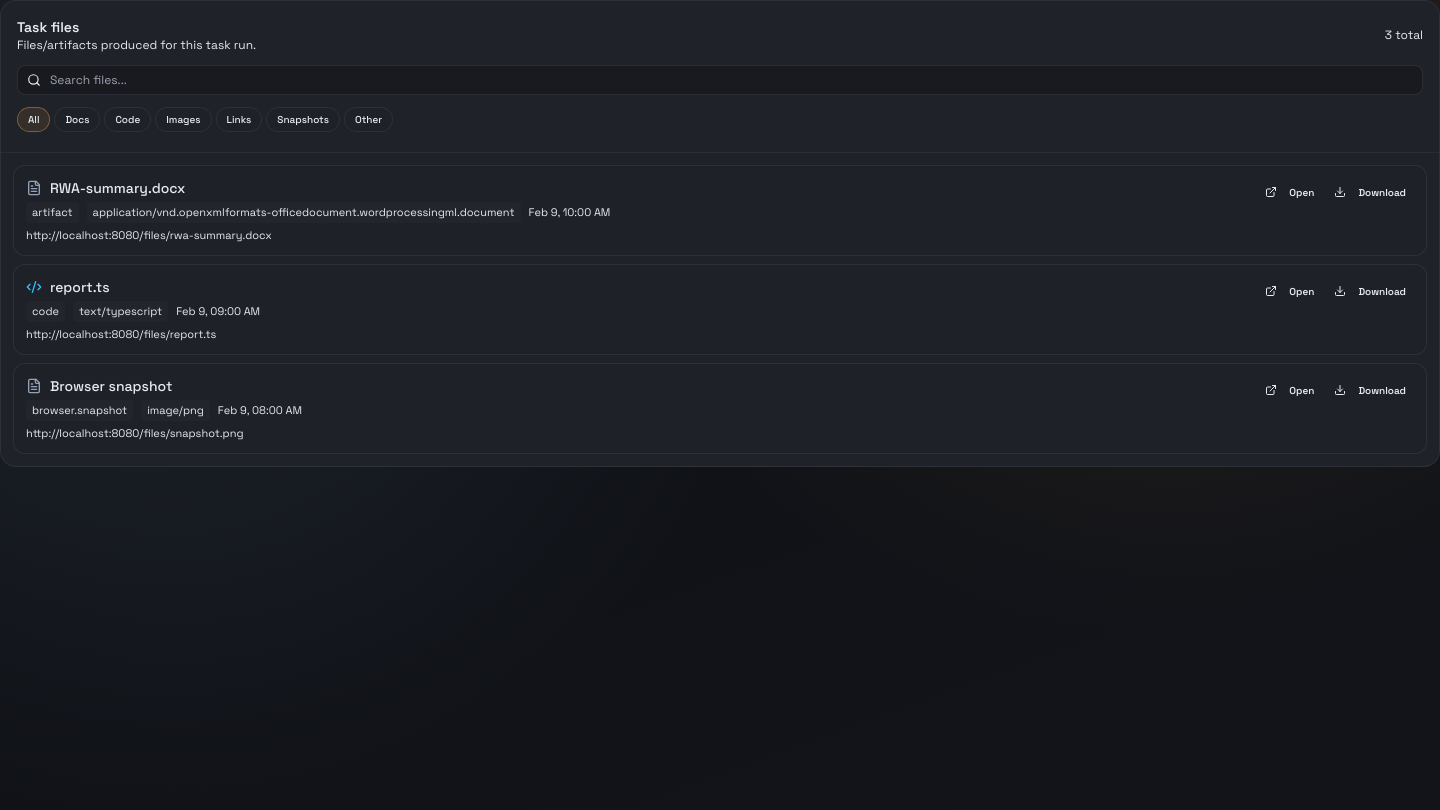
Test: TaskFilesPanel › shows task files and supports category filtering
Expected: the heading "Task files" is shown, [17,18,79,36]
Expected: the text "RWA-summary.docx" is shown, [50,178,185,198]
Click the button "Docs": x=78, y=120 [54,107,100,132]
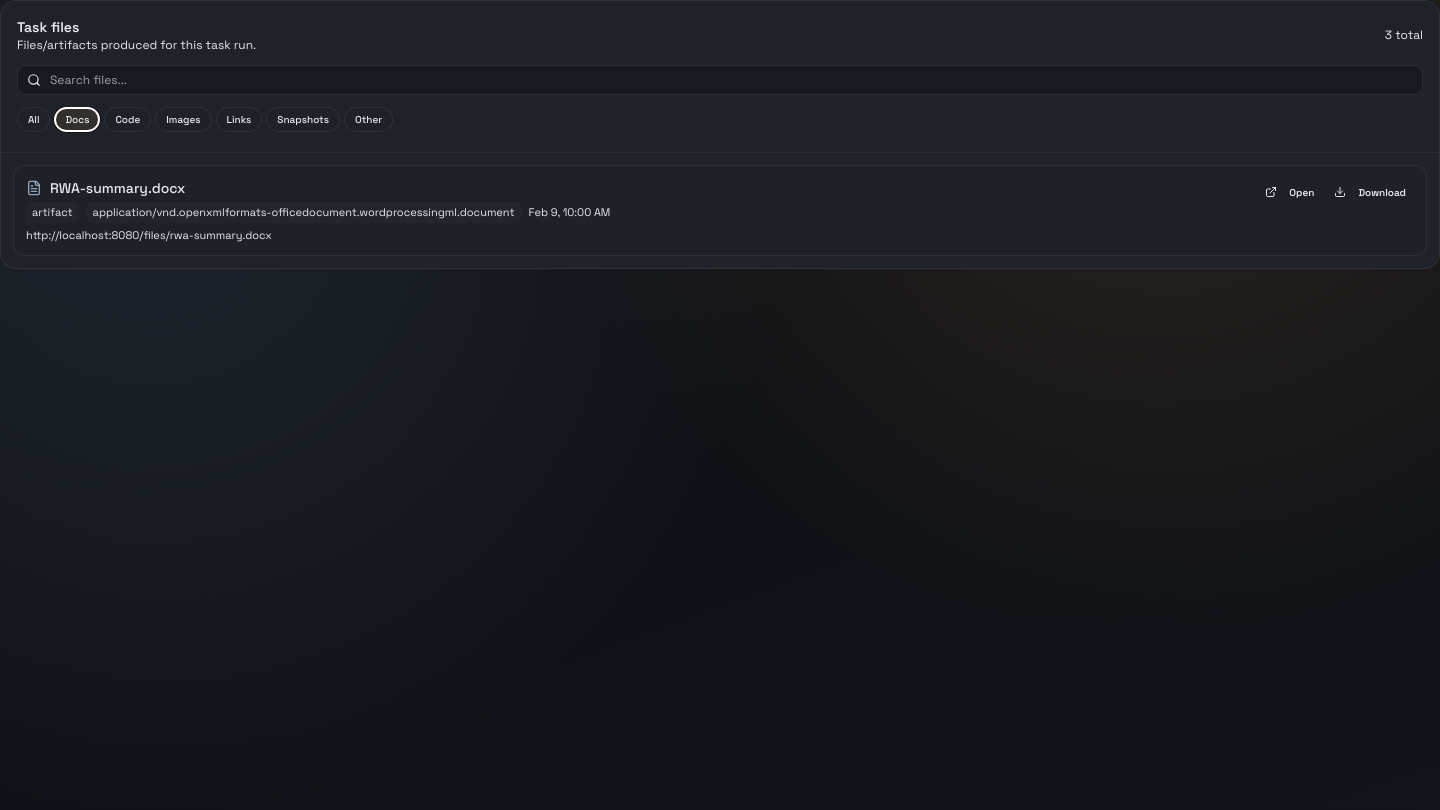
Expected: the text "RWA-summary.docx" is shown, [50,178,185,198]
Expected: the text "report.ts" is gone
